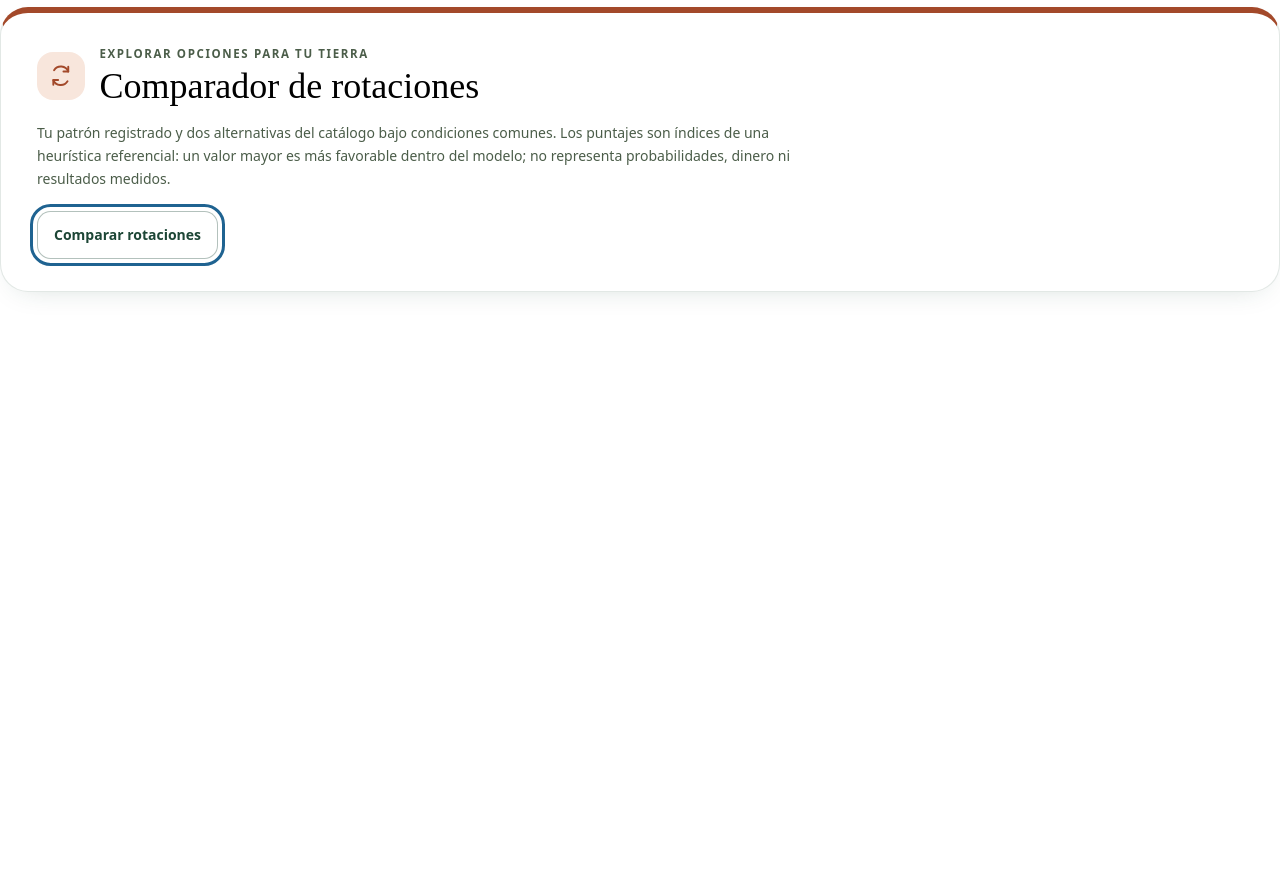
Test: Comparador: tres tarjetas, límites, errores y sesiones › consulta a petición, muestra tres alternativas con valores/textos y explicaciones por teclado
The image size is (1280, 875).
Later steps or results of the test are not shown.
Press Enter
(page scrolled)
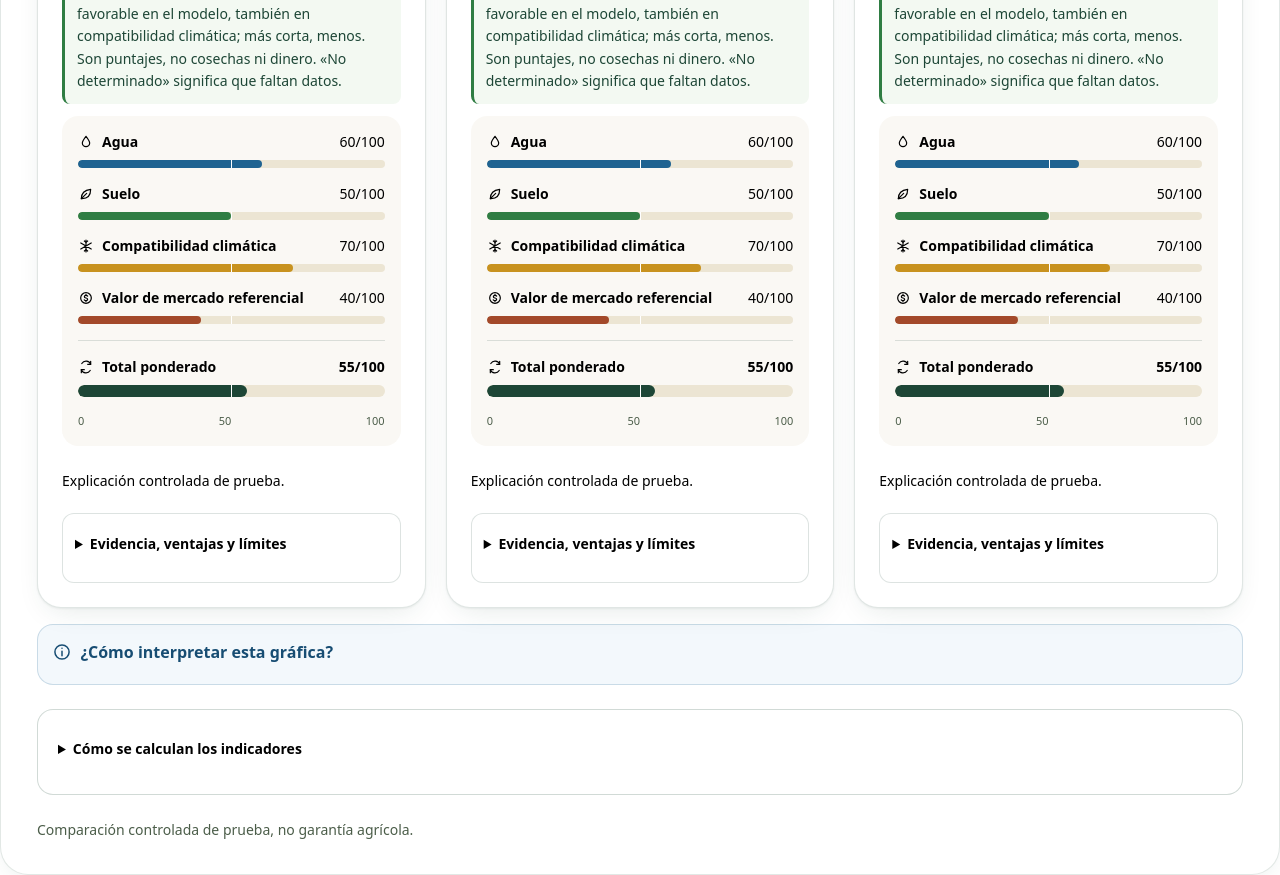
Expected: the text "55/100" is shown 3 times, [339, 357, 385, 377]; [748, 357, 793, 377]; [1156, 357, 1202, 377]
Click the 1st heading "Evidencia, ventajas y límites" at [188, 543], box [90, 534, 286, 553]
(page scrolled)
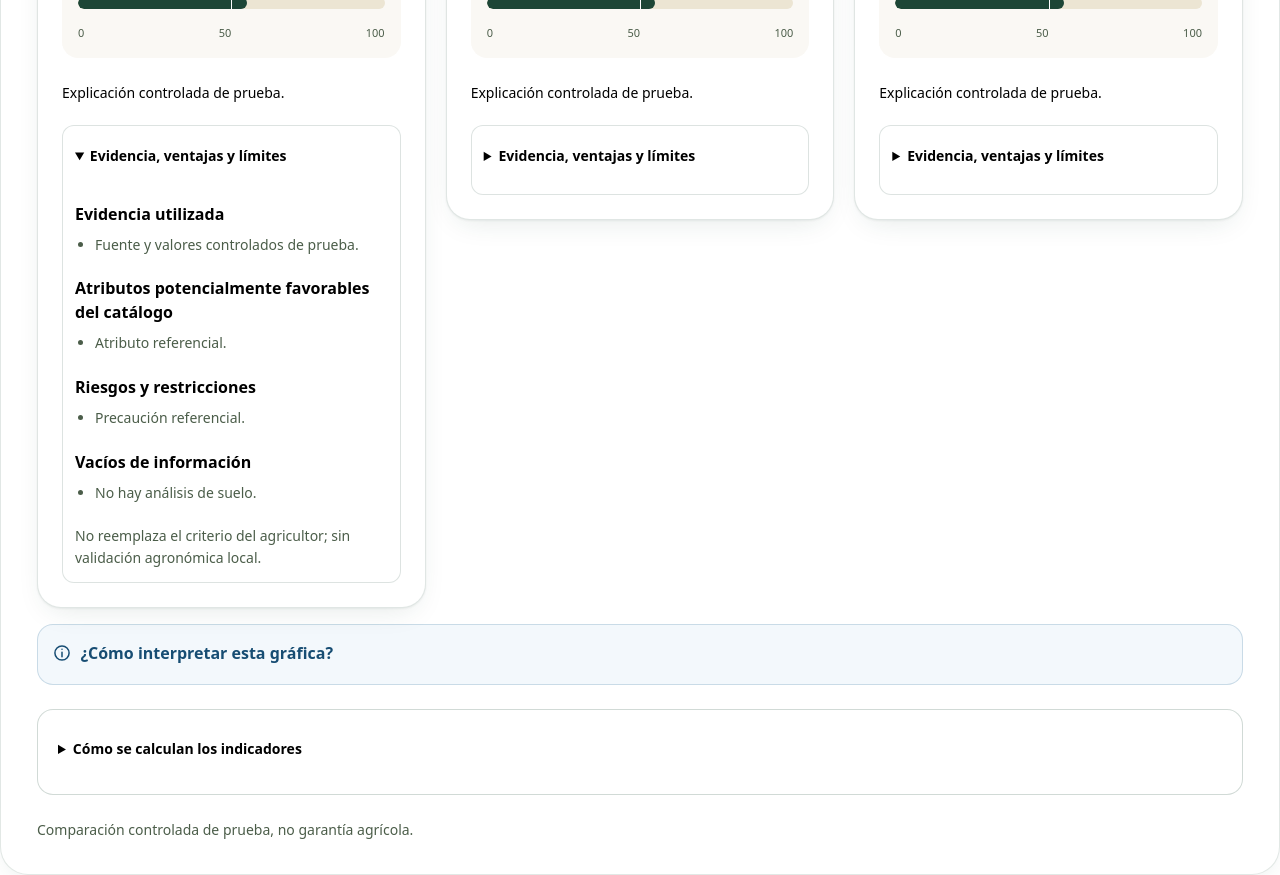
Expected: the list item "No hay análisis de suelo." is shown, [95, 483, 256, 502]
